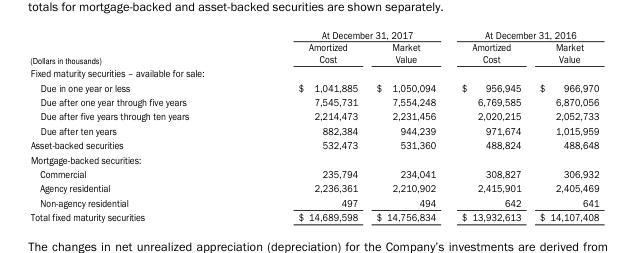table: (29, 28, 598, 222)
table column: (29, 28, 243, 222), (243, 28, 366, 222), (366, 28, 448, 222), (448, 28, 529, 222), (529, 28, 598, 222)
table column header: (29, 28, 598, 66)
table projected row header: (29, 151, 598, 166), (29, 66, 598, 79)
table row: (29, 40, 598, 66), (29, 79, 598, 94), (29, 122, 598, 137), (29, 151, 598, 166), (29, 194, 598, 209), (29, 94, 598, 108), (29, 108, 598, 122), (29, 137, 598, 151), (29, 166, 598, 180), (29, 180, 598, 194), (29, 66, 598, 79), (29, 209, 598, 222), (29, 28, 598, 40)
table spanning cell: (29, 28, 243, 66), (243, 28, 448, 40), (448, 28, 598, 40)
